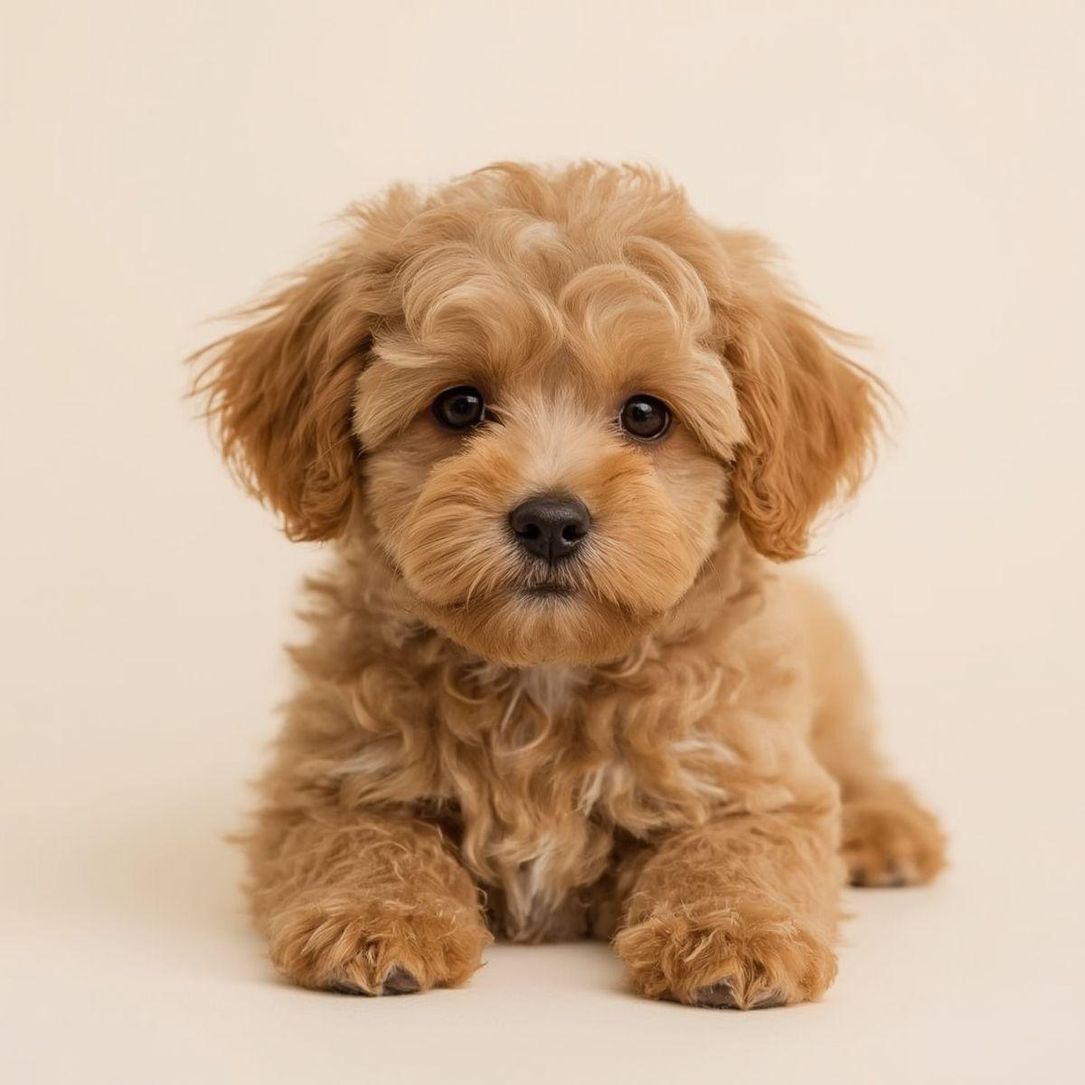puppy-dog: (189, 158, 950, 1013)
